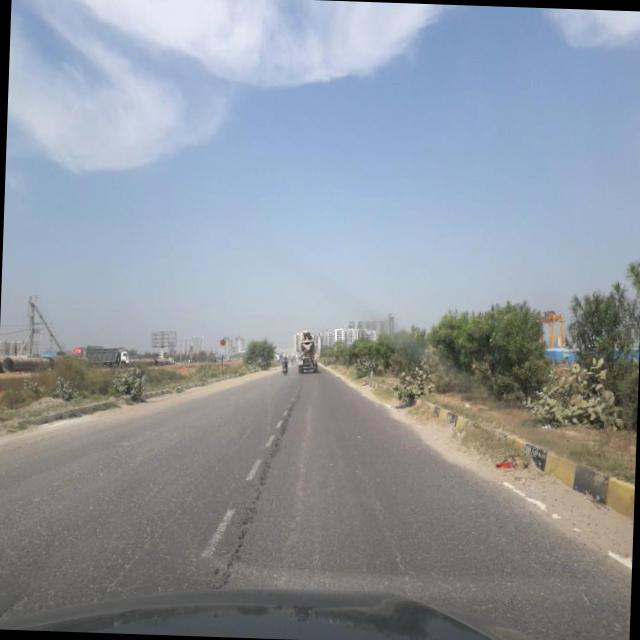crack: (0, 432, 538, 595)
pothole: (0, 581, 41, 628)
